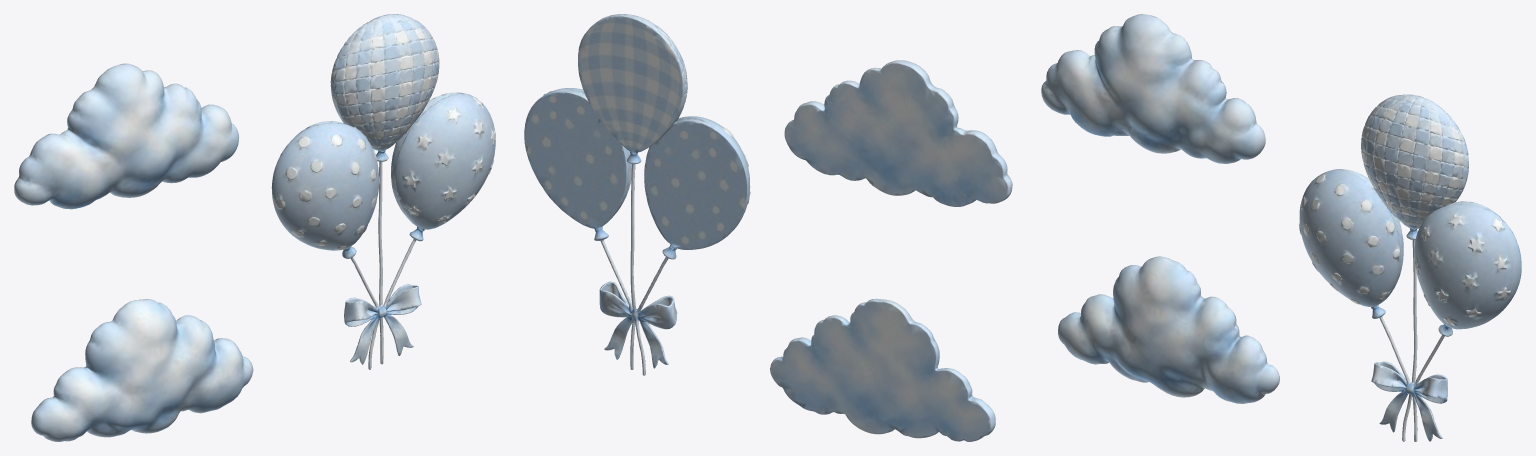
3 views of the same model, side by side, from view 1: azimuth 30°, elevation 25°; view 2: azimuth 150°, elevation 25°; view 3: azimuth 330°, elevation 25° (orthographic).
Bounding box in the file's own units: 1.9 × 1.42 × 0.1762.
1 material, 1 textured.
